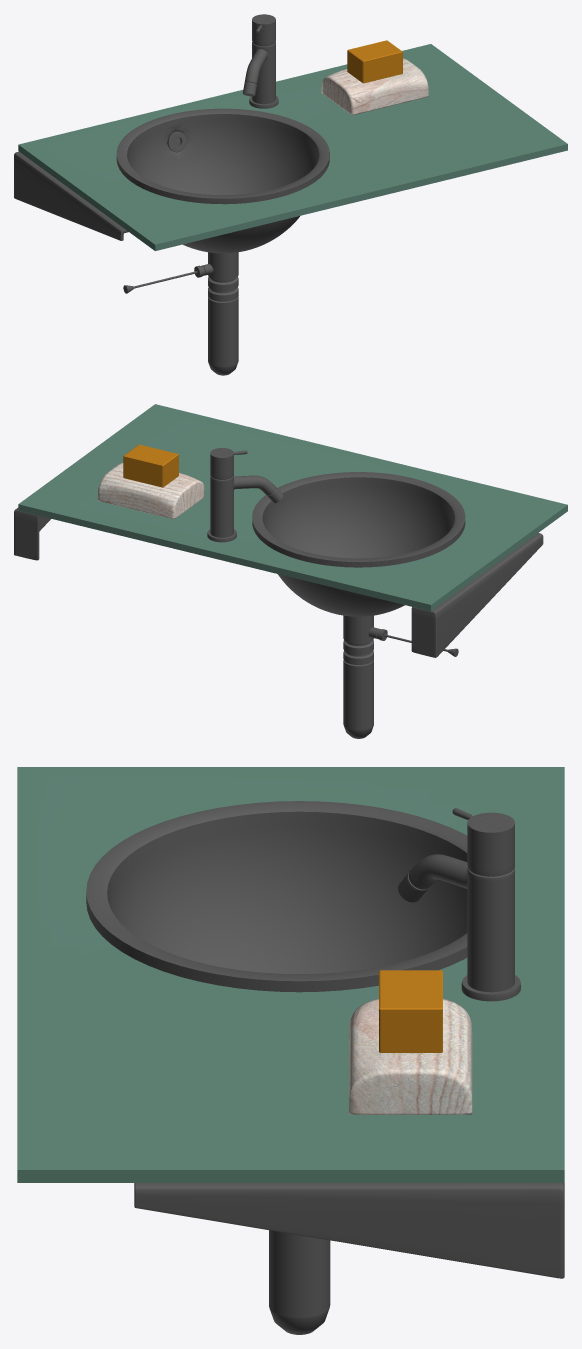
The model's file is wastafel.fbx.
3 views of the same model, one above another, from view 1: azimuth 30°, elevation 25°; view 2: azimuth 150°, elevation 25°; view 3: azimuth 270°, elevation 25° (orthographic). The views are drawn at different scales.
Visible parts, largest first — view 1: Wastafel:bathroom3, Wastafel:Layer3; view 2: Wastafel:bathroom3, Wastafel:Layer3; view 3: Wastafel:bathroom3, Wastafel:Layer3.
Part boxes in pixels (bbox=[...]): Wastafel:bathroom3: bbox=[14, 40, 567, 375]; Wastafel:Layer3: bbox=[252, 14, 275, 46]; Wastafel:bathroom3: bbox=[14, 404, 567, 738]; Wastafel:Layer3: bbox=[210, 448, 247, 479]; Wastafel:bathroom3: bbox=[17, 767, 564, 1334]; Wastafel:Layer3: bbox=[452, 808, 514, 876].
Size of the model in its own units: 71.98 by 48.44 by 40.38.
Materials: 5 (1 with a texture image).
